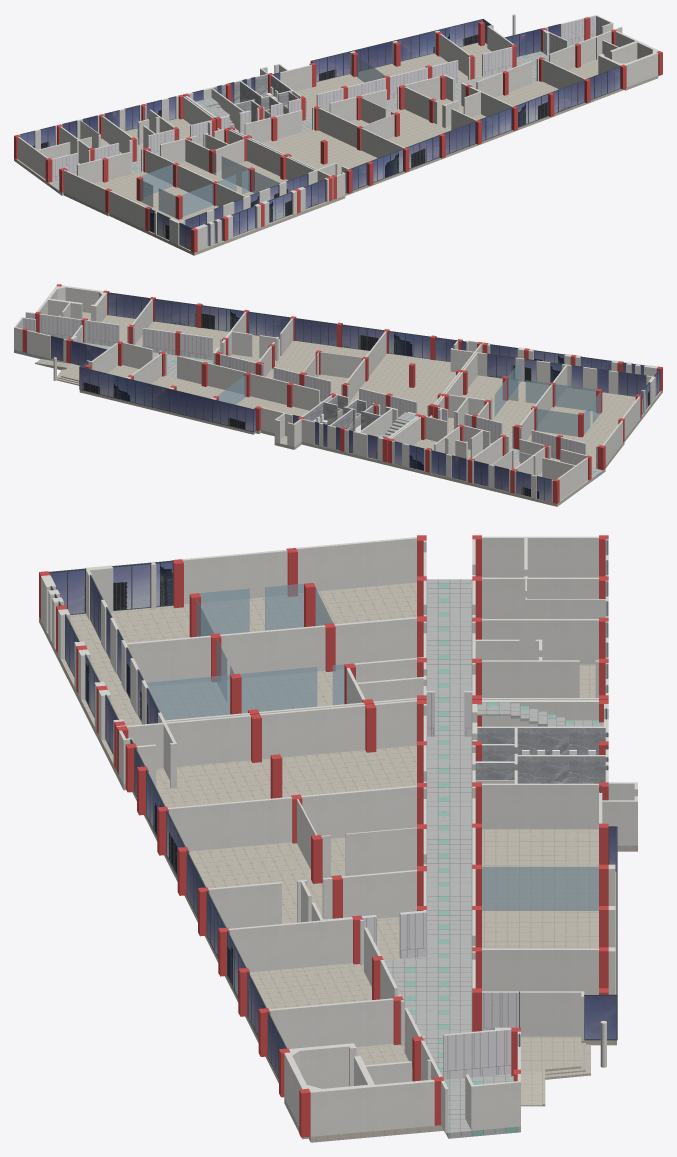
3 renders of one model, top to bottom at view 1: azimuth 30°, elevation 25°; view 2: azimuth 150°, elevation 25°; view 3: azimuth 270°, elevation 25°, orthographic. The views are drawn at different scales.
Parts seen in each view (by area): view 1: dx; view 2: dx; view 3: dx.
Part boxes in pixels (x1,y1,x2,y2): dx: [14, 14, 662, 255]; dx: [14, 284, 662, 506]; dx: [39, 535, 637, 1142].
Bounding box in the file's own units: 81.31 × 3.44 × 36.87.
13 materials, 9 textured.
